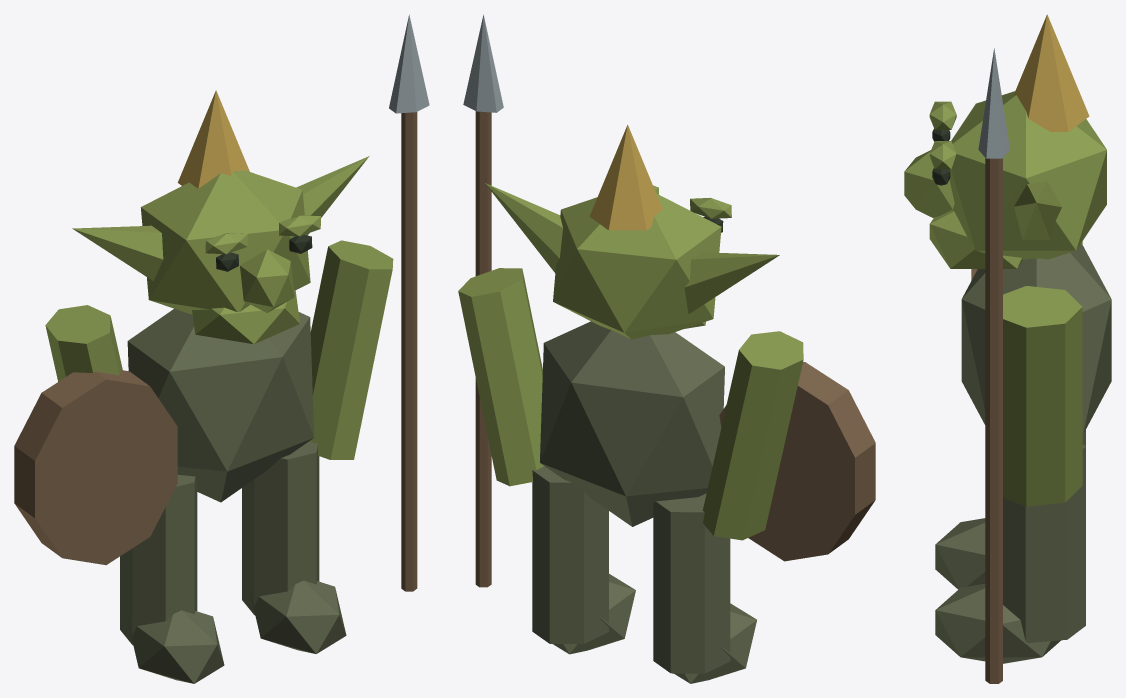
File: mossling.glb
The picture shows the model from 3 angles, left to right: view 1: azimuth 30°, elevation 25°; view 2: azimuth 150°, elevation 25°; view 3: azimuth 270°, elevation 25°; orthographic projection. The views are drawn at different scales.
Visible parts, largest first — view 1: Body, Head, Spear shaft, Bud, Spear tip, Eye; view 2: Body, Head, Spear shaft, Bud, Spear tip; view 3: Head, Body, Spear shaft, Bud, Spear tip, Eye.
Boxes of the visible parts, x1,y1,x2,y2 form: Body: [120, 308, 346, 683]; Head: [45, 156, 393, 459]; Spear shaft: [14, 112, 417, 591]; Bud: [177, 90, 249, 188]; Spear tip: [389, 14, 429, 113]; Eye: [216, 234, 312, 271]; Body: [532, 321, 756, 683]; Head: [458, 183, 803, 540]; Spear shaft: [475, 111, 875, 587]; Bud: [589, 125, 662, 230]; Spear tip: [463, 14, 503, 112]; Head: [904, 91, 1106, 506]; Body: [935, 244, 1111, 663]; Spear shaft: [971, 158, 1002, 683]; Bud: [1013, 14, 1089, 131]; Spear tip: [978, 48, 1009, 158]; Eye: [932, 129, 950, 185].
Size of the model in its own units: 1.45 by 2.11 by 0.5877.
